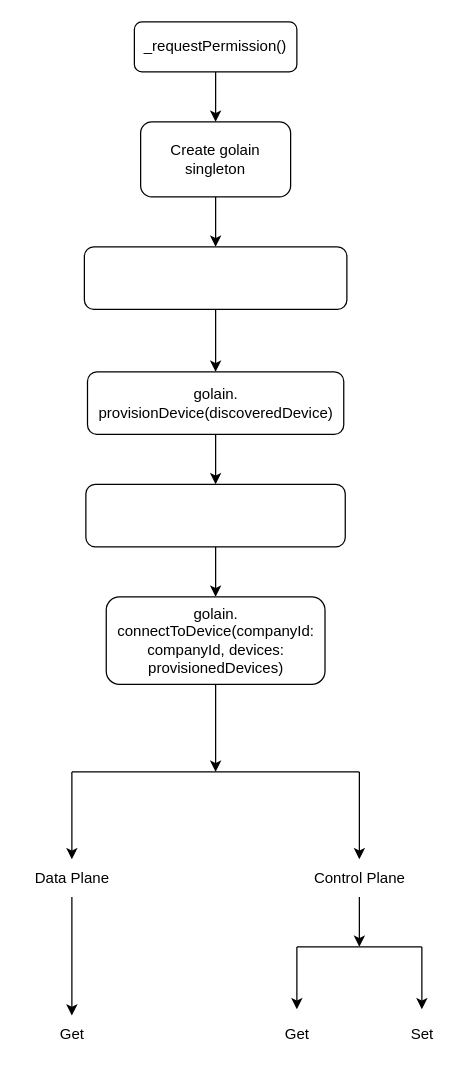
Image size: 468x1075. Some labels were removed from this diagram. Here are the shapes that lost their labels. From the top down, the box of each, then its label:
(83, 246, 347, 309): golain. scanUnprovisionedDevices(duration)
(85, 483, 345, 547): golain. provisionedNodesInRange(duration)
